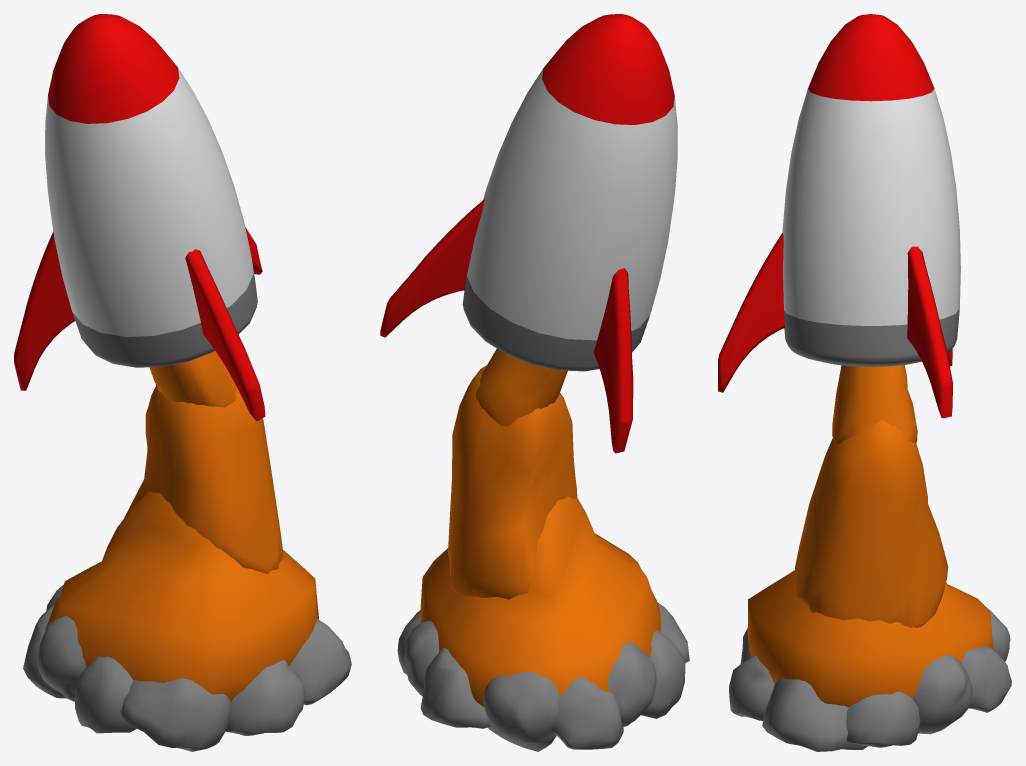
Rendered from SM_ShortTrippyTreeA2.fbx.
The picture shows the model from 3 angles, left to right: view 1: azimuth 30°, elevation 25°; view 2: azimuth 150°, elevation 25°; view 3: azimuth 270°, elevation 25°; orthographic projection. The views are drawn at different scales.
Parts seen in each view (by area): view 1: Rocket, smokeA, smokeB; view 2: Rocket, smokeA, smokeB; view 3: Rocket, smokeA, smokeB.
Part boxes in pixels (<box>): Rocket: <box>14,14,265,421</box>; smokeA: <box>45,351,318,701</box>; smokeB: <box>23,585,351,751</box>; Rocket: <box>380,14,677,453</box>; smokeA: <box>420,349,661,706</box>; smokeB: <box>397,603,689,751</box>; Rocket: <box>718,14,960,418</box>; smokeA: <box>747,365,993,707</box>; smokeB: <box>729,608,1011,751</box>.
Bounding box in the file's own units: 716 × 1802 × 731.
